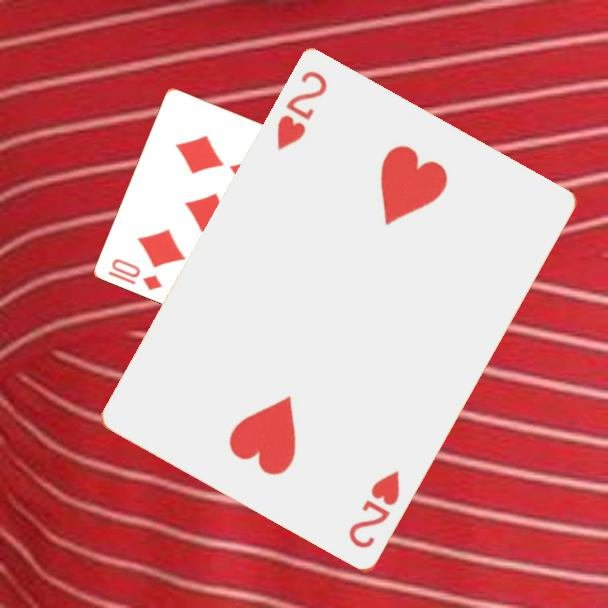d10: (105, 255, 166, 293)
h02: (273, 68, 331, 155), (345, 467, 403, 552)
